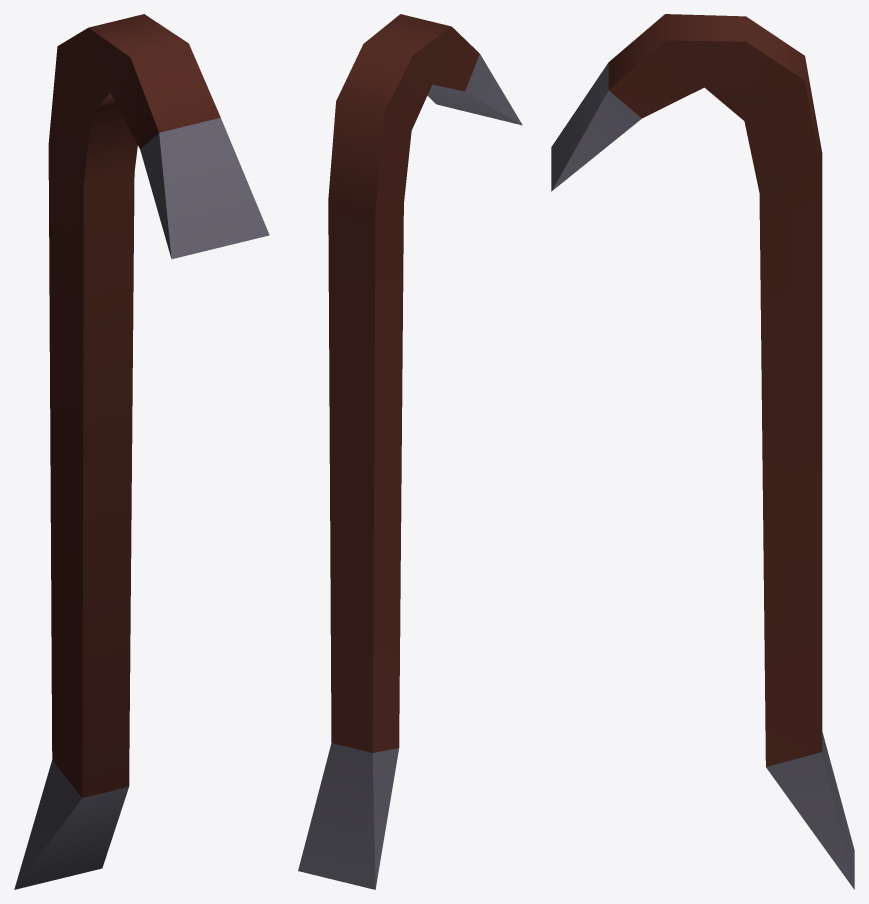
Rendered from w_crowbar.FBX.
The picture shows the model from 3 angles, left to right: view 1: azimuth 30°, elevation 25°; view 2: azimuth 150°, elevation 25°; view 3: azimuth 270°, elevation 25°; orthographic projection. The views are drawn at different scales.
Visible parts, largest first — view 1: w_crowbar; view 2: w_crowbar; view 3: w_crowbar.
Boxes of the visible parts, left/top/right/bottom form: w_crowbar: left=14, top=14, right=269, bottom=889; w_crowbar: left=298, top=14, right=522, bottom=889; w_crowbar: left=551, top=14, right=854, bottom=889.
Bounding box in the file's own units: 4.55 × 39.99 × 13.04.
Materials: 1 (1 with a texture image).
